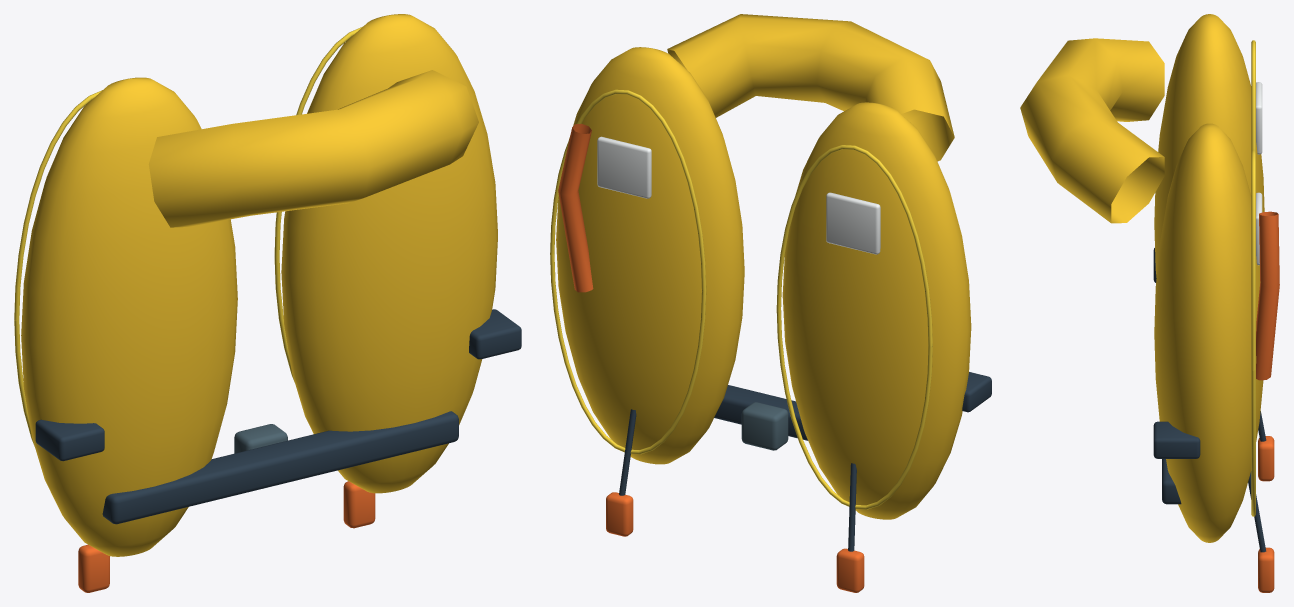
The model's file is life-vest.glb.
3 views of the same model, side by side, from view 1: azimuth 30°, elevation 25°; view 2: azimuth 150°, elevation 25°; view 3: azimuth 270°, elevation 25° (orthographic). The views are drawn at different scales.
Visible parts, largest first — view 1: life-vest; view 2: life-vest; view 3: life-vest.
Part boxes in pixels (<box>): life-vest: <box>14,14,521,592</box>; life-vest: <box>550,14,991,592</box>; life-vest: <box>1020,14,1279,592</box>.
Bounding box in the file's own units: 0.37 × 0.4035 × 0.2065.
